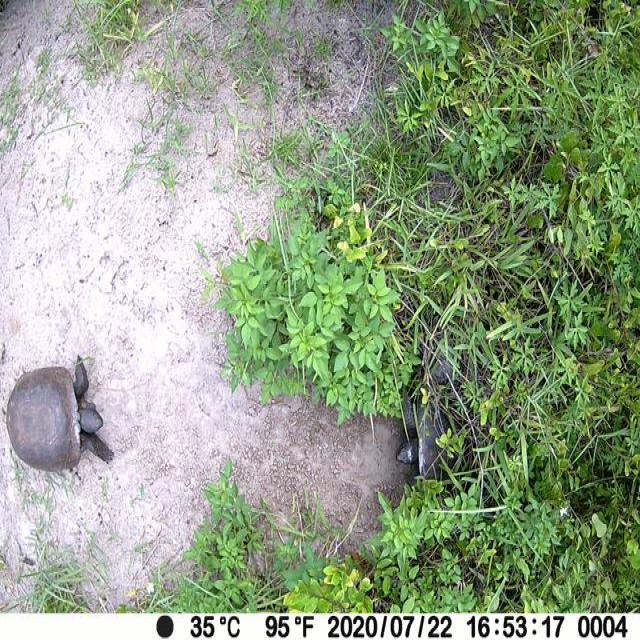tortoise: (5, 352, 114, 472), (394, 385, 455, 480)
